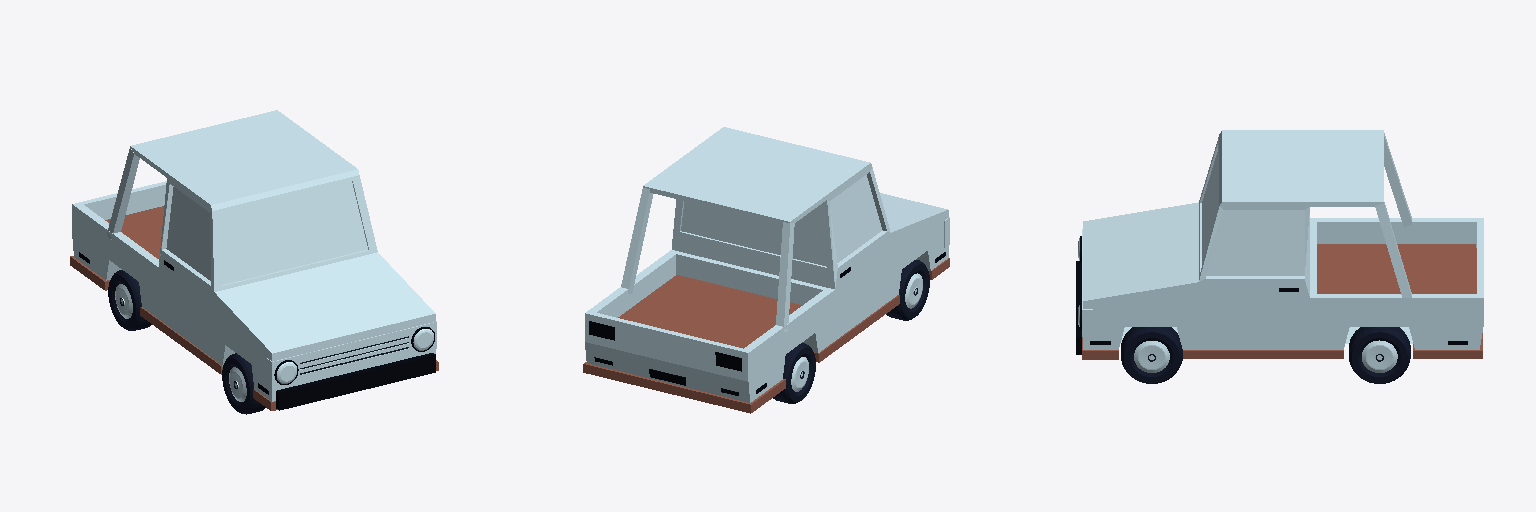
File: car_altered.obj
3 renders of one model, left to right at view 1: azimuth 30°, elevation 25°; view 2: azimuth 150°, elevation 25°; view 3: azimuth 270°, elevation 25°, orthographic.
Parts seen in each view (by area): view 1: Cube_1, Cube.3_1, Cube.4, Cylinder.1_1, Cylinder.7, Cube.004, Cube.1_1, Cube.2; view 2: Cube_1, Cube.004, Cube.1, Cylinder.1_1, Cylinder.7, Cube.1_1, Cube.2_1, Cube.2; view 3: Cube_1, Cube.004, Cylinder.5, Cylinder.6, Cube.2, Cube.2_1, Cube.1_1, Cube.1.
Boxes of the visible parts, x1,y1,x2,y2 form: Cube_1: [72, 110, 435, 401]; Cube.3_1: [267, 321, 436, 388]; Cube.4: [276, 353, 435, 410]; Cylinder.1_1: [108, 270, 151, 330]; Cylinder.7: [222, 353, 265, 414]; Cube.004: [105, 206, 163, 258]; Cube.1_1: [107, 148, 139, 239]; Cube.2: [140, 307, 222, 374]; Cube_1: [585, 127, 948, 402]; Cube.004: [618, 275, 802, 348]; Cube.1: [583, 362, 785, 413]; Cylinder.1_1: [773, 343, 815, 403]; Cylinder.7: [886, 260, 929, 320]; Cube.1_1: [776, 222, 794, 331]; Cube.2_1: [621, 188, 652, 293]; Cube.2: [814, 295, 899, 362]; Cube_1: [1083, 130, 1483, 349]; Cube.004: [1317, 244, 1475, 293]; Cylinder.5: [1349, 327, 1410, 383]; Cylinder.6: [1121, 327, 1182, 383]; Cube.2: [1183, 350, 1343, 358]; Cube.2_1: [1375, 202, 1411, 297]; Cube.1_1: [1384, 133, 1411, 226]; Cube.1: [1413, 333, 1482, 358].
Size of the model in its own units: 155 by 158 by 324.